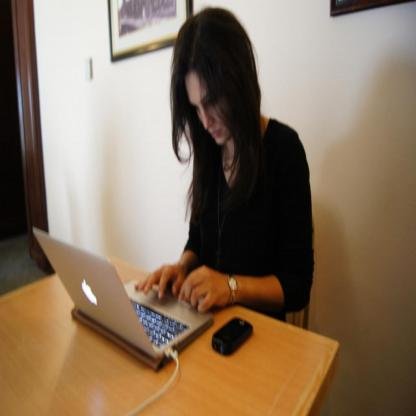board: (32, 222, 217, 373)
